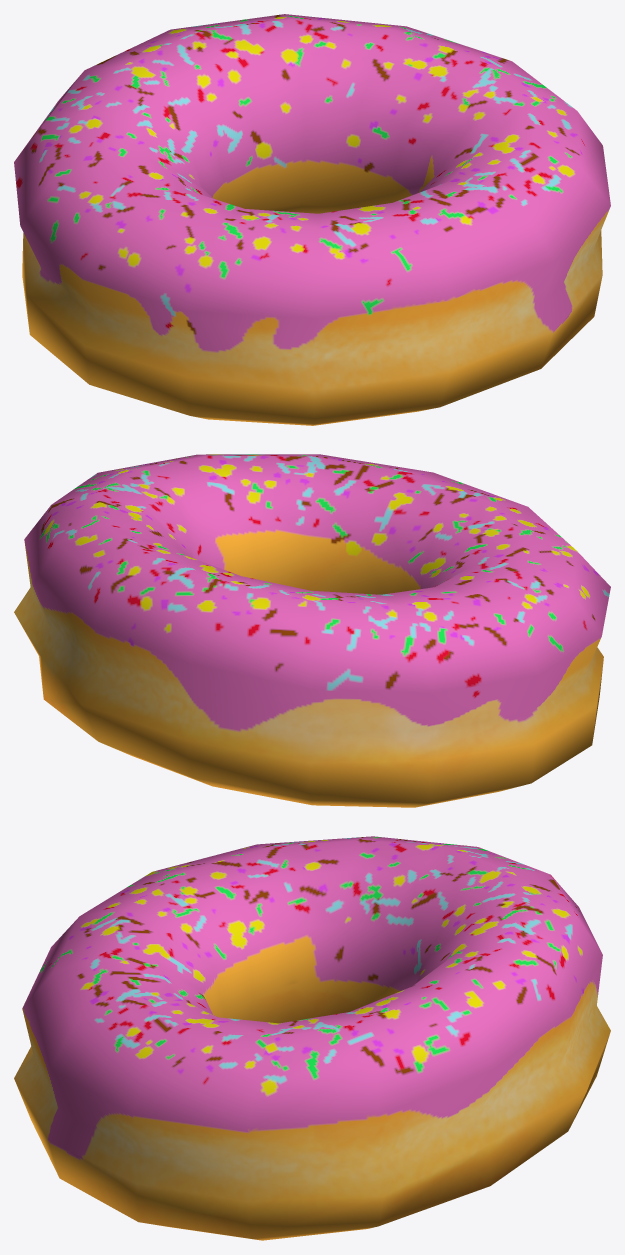
File: donutwithsparklepink.glb
The picture shows the model from 3 angles, top to bottom: view 1: azimuth 30°, elevation 25°; view 2: azimuth 150°, elevation 25°; view 3: azimuth 270°, elevation 25°; orthographic projection. The views are drawn at different scales.
Visible parts, largest first — view 1: donutwithsparklepink; view 2: donutwithsparklepink; view 3: donutwithsparklepink.
Boxes of the visible parts, x1,y1,x2,y2 form: donutwithsparklepink: (14, 14, 610, 425); donutwithsparklepink: (14, 454, 610, 807); donutwithsparklepink: (14, 836, 610, 1240).
Bounding box in the file's own units: 0.1584 × 0.0654 × 0.15.
1 material, 1 textured.
